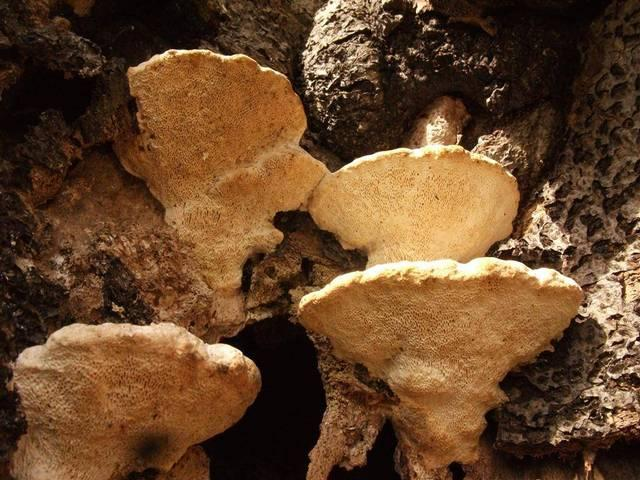poisonous_mushroom: (296, 254, 584, 479), (109, 46, 332, 321), (7, 319, 262, 479), (306, 141, 521, 267)
